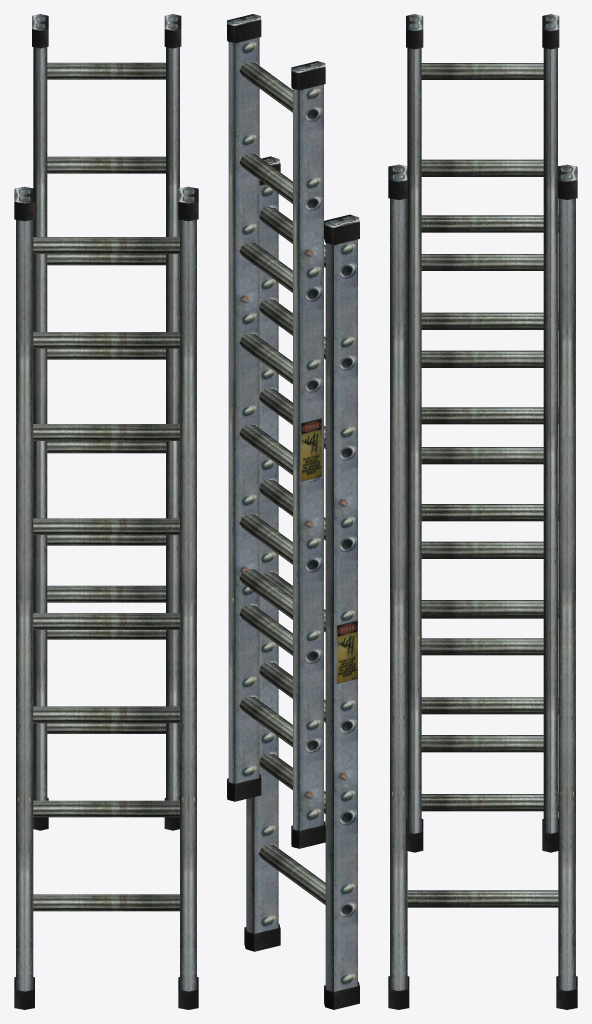
File: ladderaluminium128.glb
The picture shows the model from 3 angles, left to right: view 1: azimuth 90°, elevation 25°; view 2: azimuth 210°, elevation 25°; view 3: azimuth 270°, elevation 25°; orthographic projection. The views are drawn at different scales.
Parts seen in each view (by area): view 1: 0_LadderAluminium; view 2: 0_LadderAluminium; view 3: 0_LadderAluminium.
Part boxes in pixels (x1,y1,x2,y2): 0_LadderAluminium: (14,14,198,1009); 0_LadderAluminium: (227,14,359,1009); 0_LadderAluminium: (388,14,577,1009).
Size of the model in its own units: 0.2163 by 3.25 by 0.563.
Materials: 1 (1 with a texture image).
